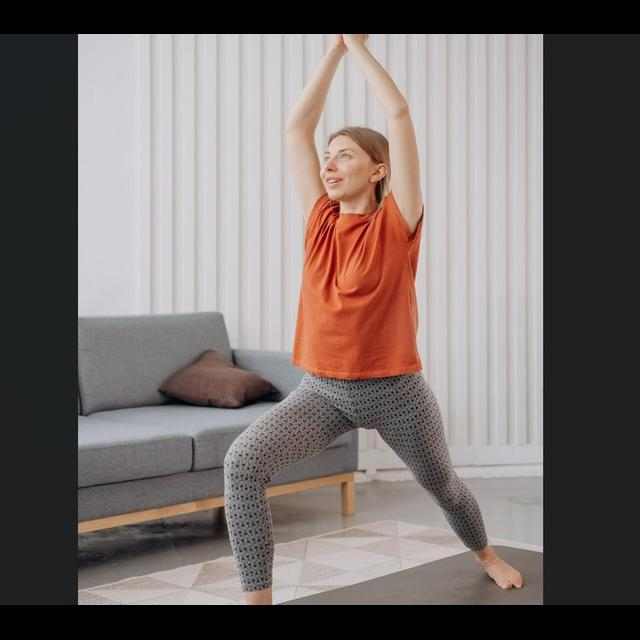Warrior_I: (200, 32, 531, 604)
